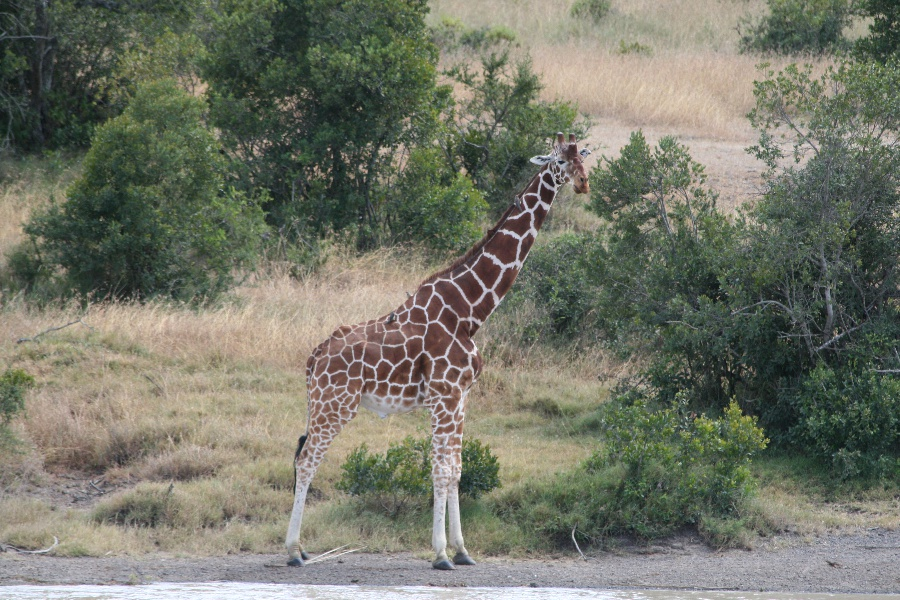giraffe: (273, 123, 601, 572)
